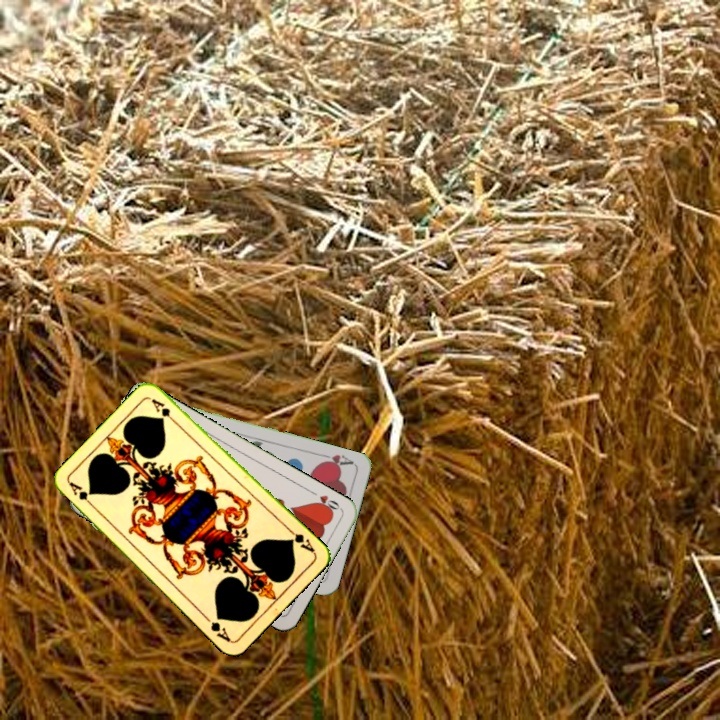GA: (65, 478, 98, 511), (283, 524, 317, 555)
HA: (316, 449, 356, 470)
HO: (307, 487, 344, 516)
